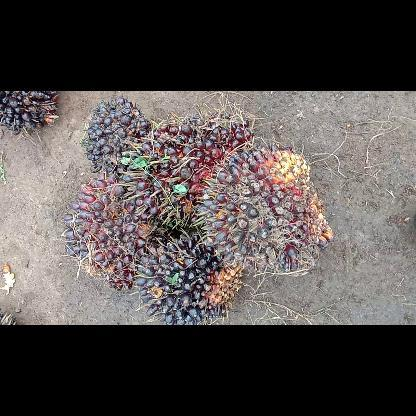TBS mentah: (192, 140, 334, 278), (130, 112, 258, 232), (60, 170, 164, 292), (132, 230, 248, 324), (80, 95, 152, 176)
